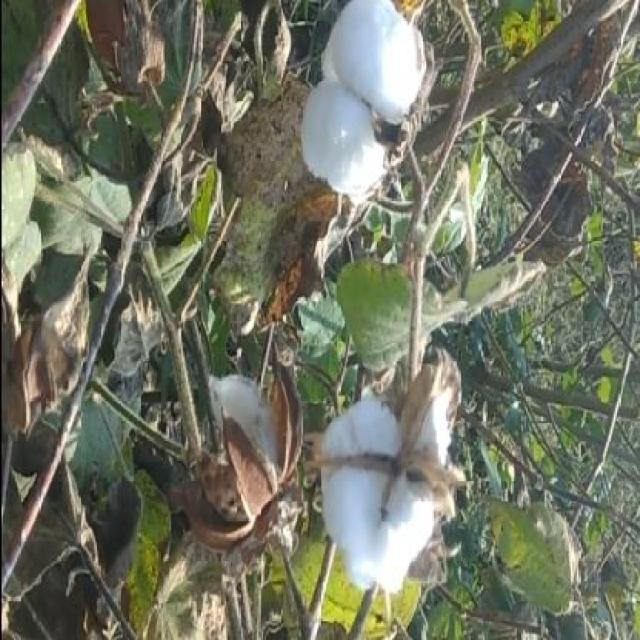cotton_ready: (308, 346, 470, 605), (300, 1, 445, 208)
